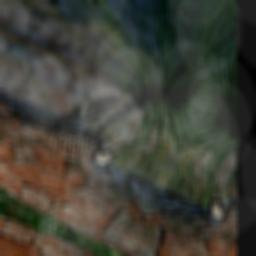Woodpecker: (0, 90, 126, 187)
